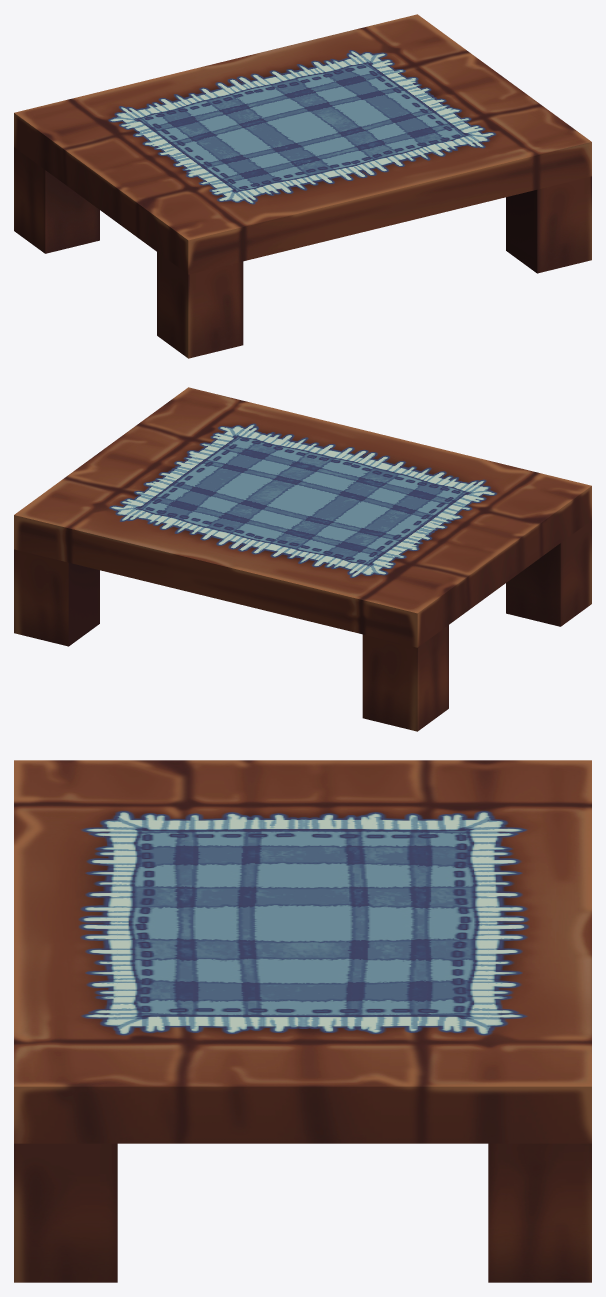
The model's file is Desk_Square.fbx.
3 renders of one model, top to bottom at view 1: azimuth 30°, elevation 25°; view 2: azimuth 150°, elevation 25°; view 3: azimuth 270°, elevation 25°, orthographic. The views are drawn at different scales.
Visible parts, largest first — view 1: pCube159; view 2: pCube159; view 3: pCube159.
Part boxes in pixels (x1,y1,x2,y2): pCube159: (14,14,591,358); pCube159: (14,387,591,731); pCube159: (14,760,591,1282).
Bounding box in the file's own units: 3.82 × 1.07 × 2.86.
